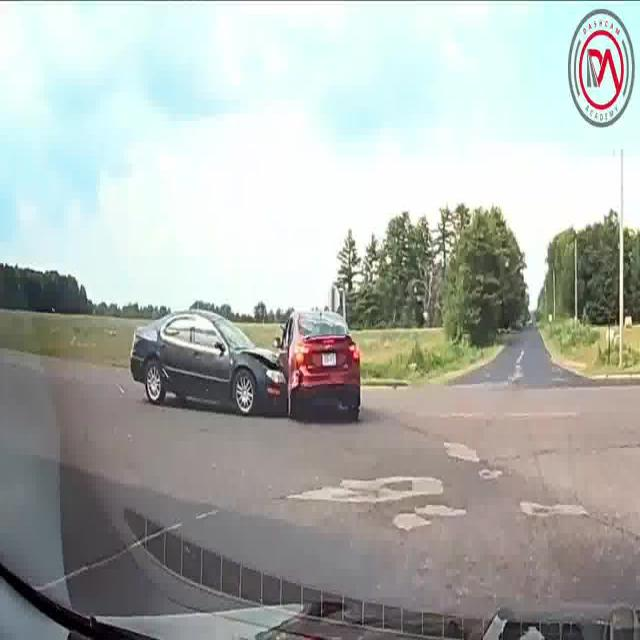Accident: (128, 262, 370, 440)
